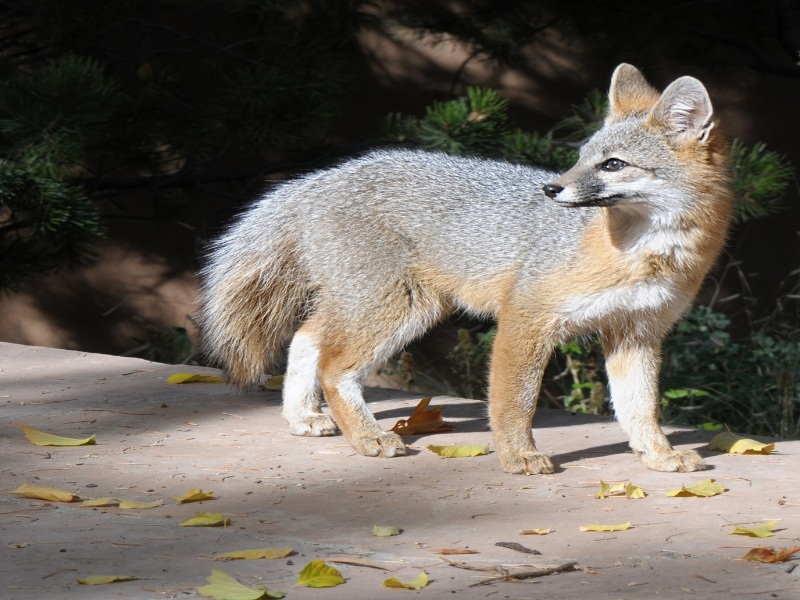fox: (201, 56, 739, 478)
